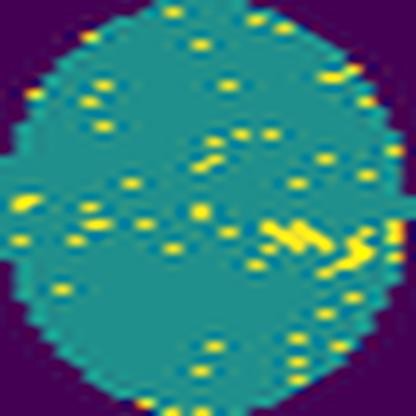Loc: (314, 222, 380, 282), (262, 215, 339, 256)
